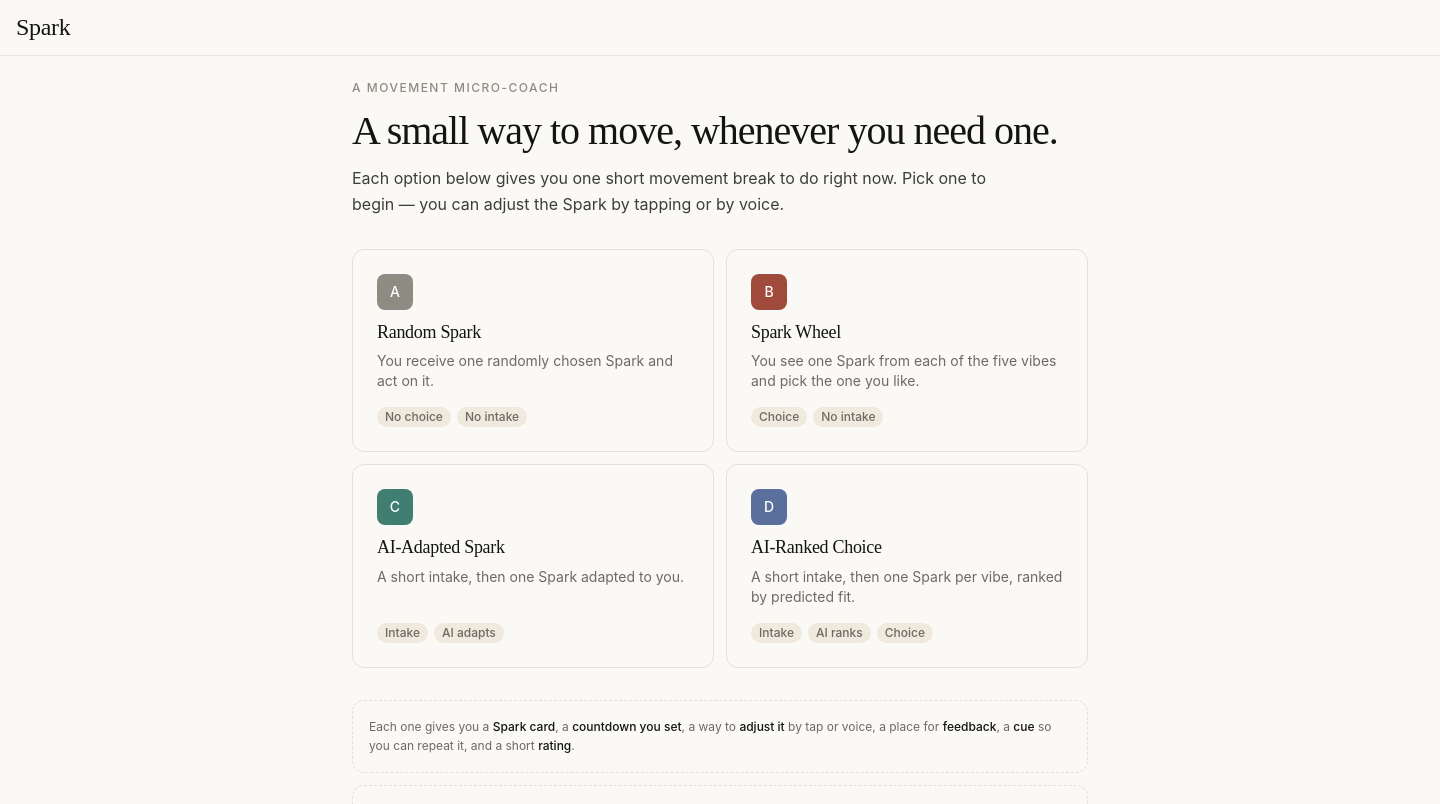
Scenario: Spark page › runs the study default until the participant picks a length
The image size is (1440, 804).
Click the button with test id "spark-cond-A": (533,351) [352,249,714,452]
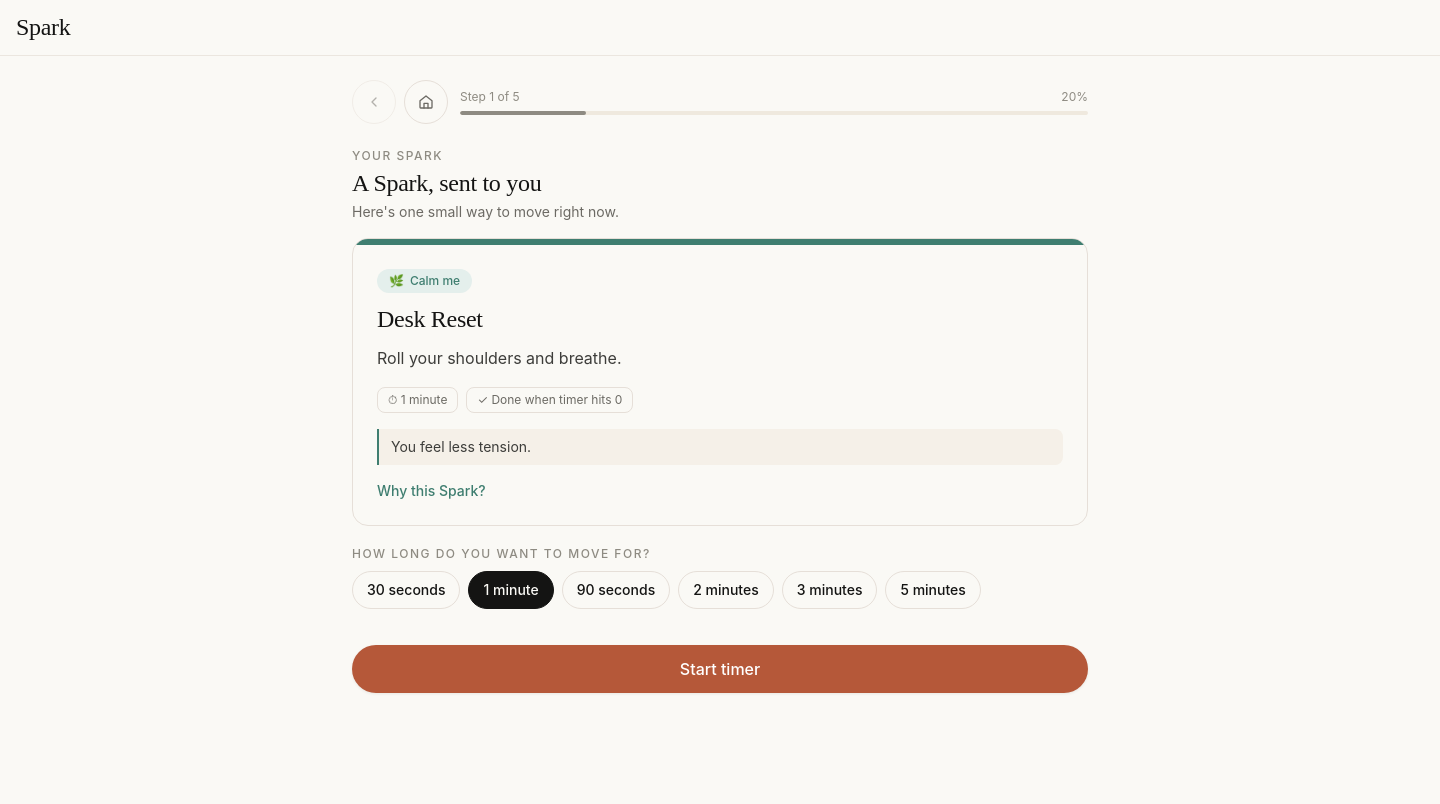
Expected: the element with test id "spark-card" is shown, [352,238,1088,526]
Expected: the text "⏱ 1 minute" is shown, [377,387,458,413]
Click the button "3 minutes": (830,590) [782,571,878,609]
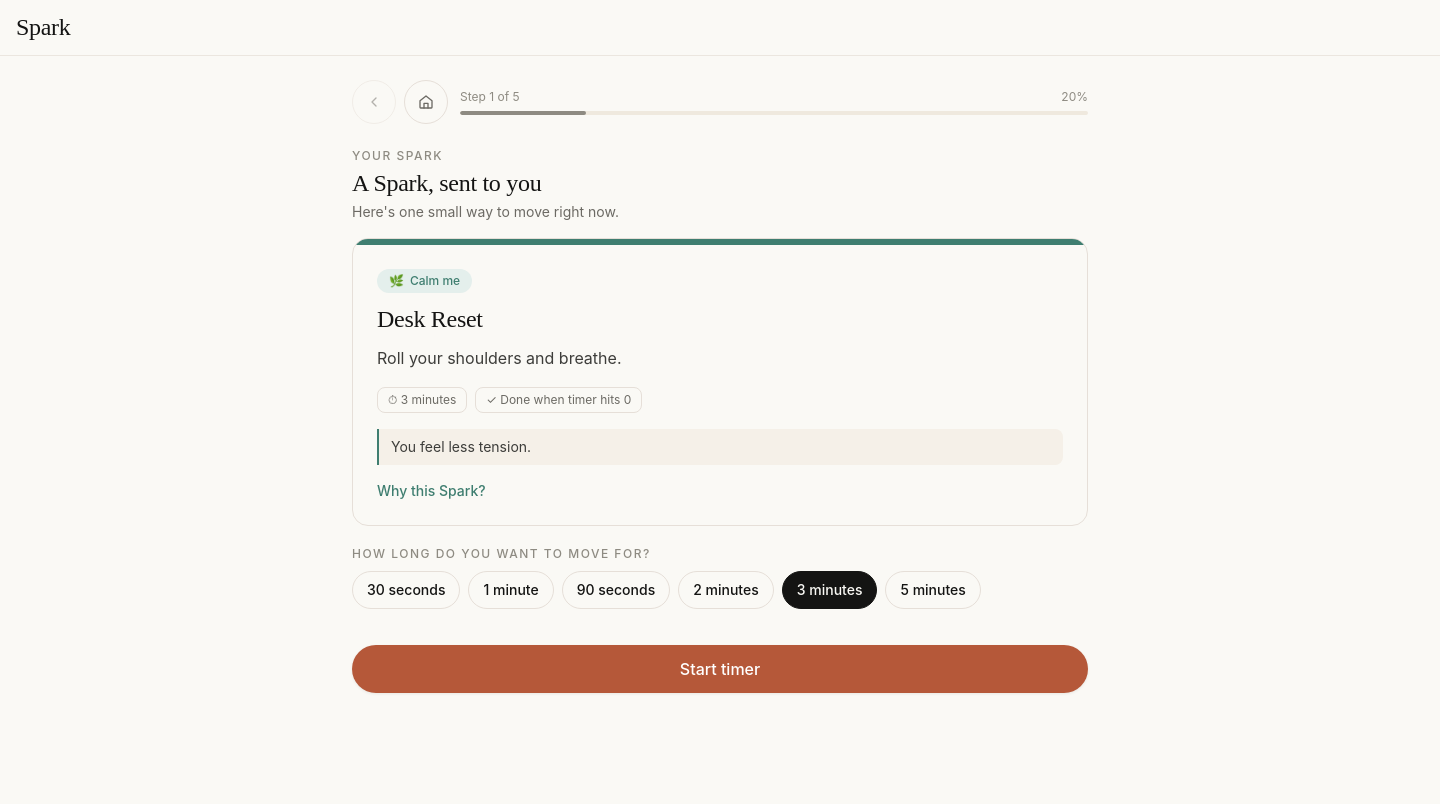
Expected: the text "⏱ 3 minutes" is shown, [377,387,467,413]
